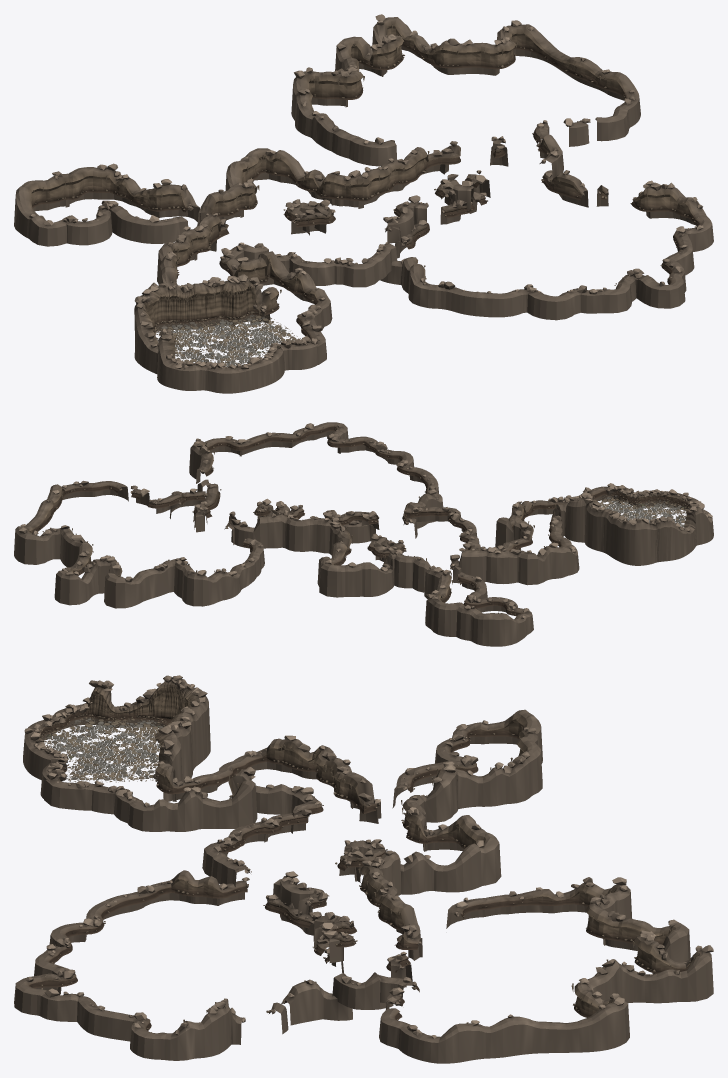
The model's file is grotto-cave.glb.
The picture shows the model from 3 angles, top to bottom: view 1: azimuth 30°, elevation 25°; view 2: azimuth 150°, elevation 25°; view 3: azimuth 270°, elevation 25°; orthographic projection. The views are drawn at different scales.
Parts seen in each view (by area): view 1: cavewall_west-floor-0, cavewall_throne-water-0, cavewall_temple-water-0, cavewall_entrance-floor-0, cavewall_hoard-floor-0, cavefloor_entrance-floor-0, caverock_west-floor-0, cavewall_pool-water-0, caverock_entrance-floor-0, caverock_throne-water-0, caverock_temple-water-0, caverock_hoard-floor-0; view 2: cavewall_west-floor-0, cavewall_throne-water-0, cavewall_entrance-floor-0, cavewall_temple-water-0, cavewall_hoard-floor-0, caverock_west-floor-0, caverock_throne-water-0, caverock_entrance-floor-0, cavefloor_entrance-floor-0, cavewall_pool-water-0, caverock_temple-water-0, caverock_hoard-floor-0 (+1 smaller); view 3: cavewall_west-floor-0, cavewall_throne-water-0, cavewall_temple-water-0, cavewall_hoard-floor-0, cavewall_entrance-floor-0, cavefloor_entrance-floor-0, caverock_west-floor-0, caverock_entrance-floor-0, cavewall_pool-water-0, caverock_throne-water-0, caverock_temple-water-0, caverock_hoard-floor-0 (+1 smaller).
Part boxes in pixels (x1,y1,x2,y2): cavewall_west-floor-0: [157, 134, 563, 364]; cavewall_throne-water-0: [291, 17, 640, 166]; cavewall_temple-water-0: [380, 170, 713, 320]; cavewall_entrance-floor-0: [134, 279, 318, 393]; cavewall_hoard-floor-0: [14, 167, 201, 246]; cavefloor_entrance-floor-0: [154, 312, 300, 367]; caverock_west-floor-0: [165, 141, 559, 342]; cavewall_pool-water-0: [275, 208, 401, 287]; caverock_entrance-floor-0: [134, 274, 317, 369]; caverock_throne-water-0: [294, 14, 635, 144]; caverock_temple-water-0: [401, 170, 703, 294]; caverock_hoard-floor-0: [29, 163, 193, 225]; cavewall_west-floor-0: [169, 486, 620, 597]; cavewall_throne-water-0: [14, 481, 264, 608]; cavewall_entrance-floor-0: [565, 486, 713, 565]; cavewall_temple-water-0: [189, 422, 443, 543]; cavewall_hoard-floor-0: [424, 569, 533, 646]; caverock_west-floor-0: [177, 485, 615, 571]; caverock_throne-water-0: [18, 480, 263, 581]; caverock_entrance-floor-0: [568, 483, 712, 531]; cavefloor_entrance-floor-0: [600, 493, 687, 526]; cavewall_pool-water-0: [361, 507, 479, 561]; caverock_temple-water-0: [193, 423, 438, 524]; caverock_hoard-floor-0: [426, 565, 529, 618]; cavewall_west-floor-0: [44, 738, 501, 1009]; cavewall_throne-water-0: [378, 883, 713, 1063]; cavewall_temple-water-0: [14, 870, 352, 1060]; cavewall_hoard-floor-0: [392, 709, 542, 822]; cavewall_entrance-floor-0: [23, 680, 210, 801]; cavefloor_entrance-floor-0: [41, 715, 168, 782]; caverock_west-floor-0: [52, 735, 484, 985]; caverock_entrance-floor-0: [24, 675, 207, 780]; cavewall_pool-water-0: [202, 811, 360, 899]; caverock_throne-water-0: [377, 877, 713, 1038]; caverock_temple-water-0: [22, 877, 329, 1035]; caverock_hoard-floor-0: [403, 718, 536, 797].
Bounding box in the file's own units: 176 × 18.99 × 150.
